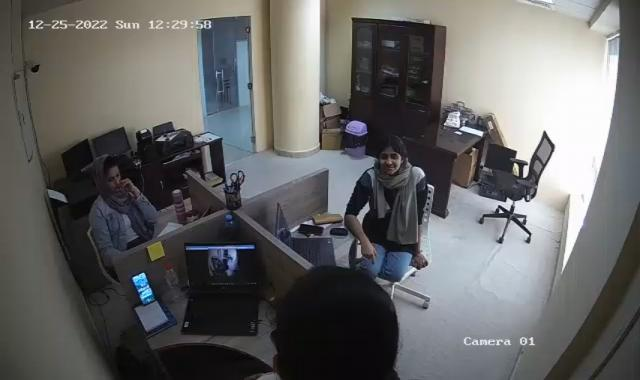no_hairnet: (379, 134, 404, 175), (97, 157, 123, 186)
